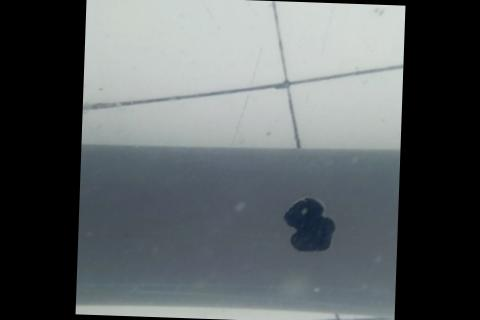kebocoran: (281, 195, 337, 253)
